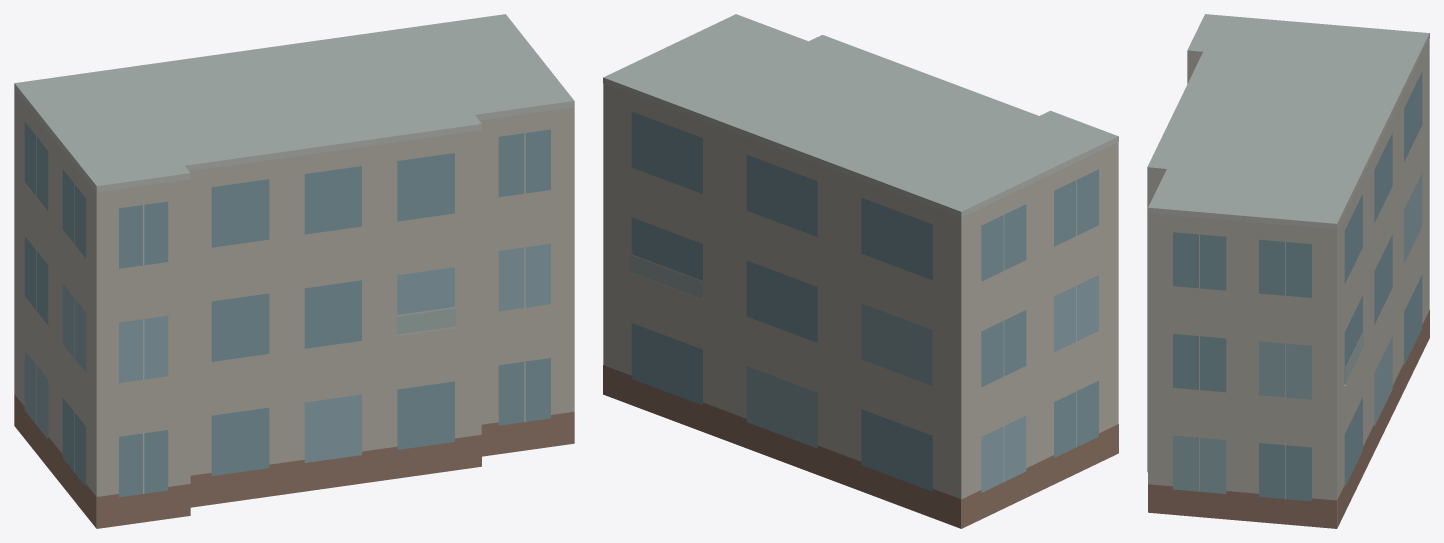
File: survey-upis-32504150.glb
3 views of the same model, side by side, from view 1: azimuth 30°, elevation 25°; view 2: azimuth 150°, elevation 25°; view 3: azimuth 270°, elevation 25° (orthographic). The views are drawn at different scales.
Parts seen in each view (by area): view 1: survey-upis-32504150.tmp; view 2: survey-upis-32504150.tmp; view 3: survey-upis-32504150.tmp.
Boxes of the visible parts, x1,y1,x2,y2 form: survey-upis-32504150.tmp: (14,14,574,528); survey-upis-32504150.tmp: (603,14,1118,528); survey-upis-32504150.tmp: (1147,14,1429,528).
Size of the model in its own units: 19.93 by 13.5 by 11.34.
